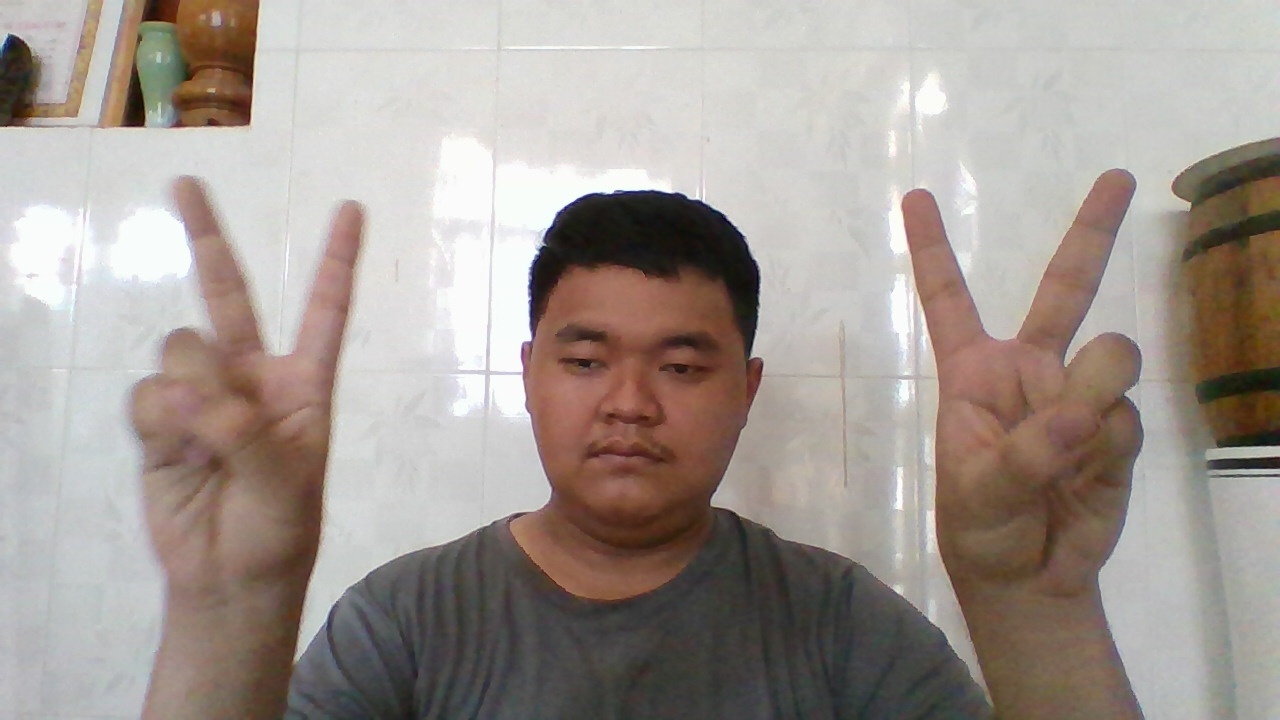V: (902, 166, 1140, 601), (132, 175, 366, 598)
